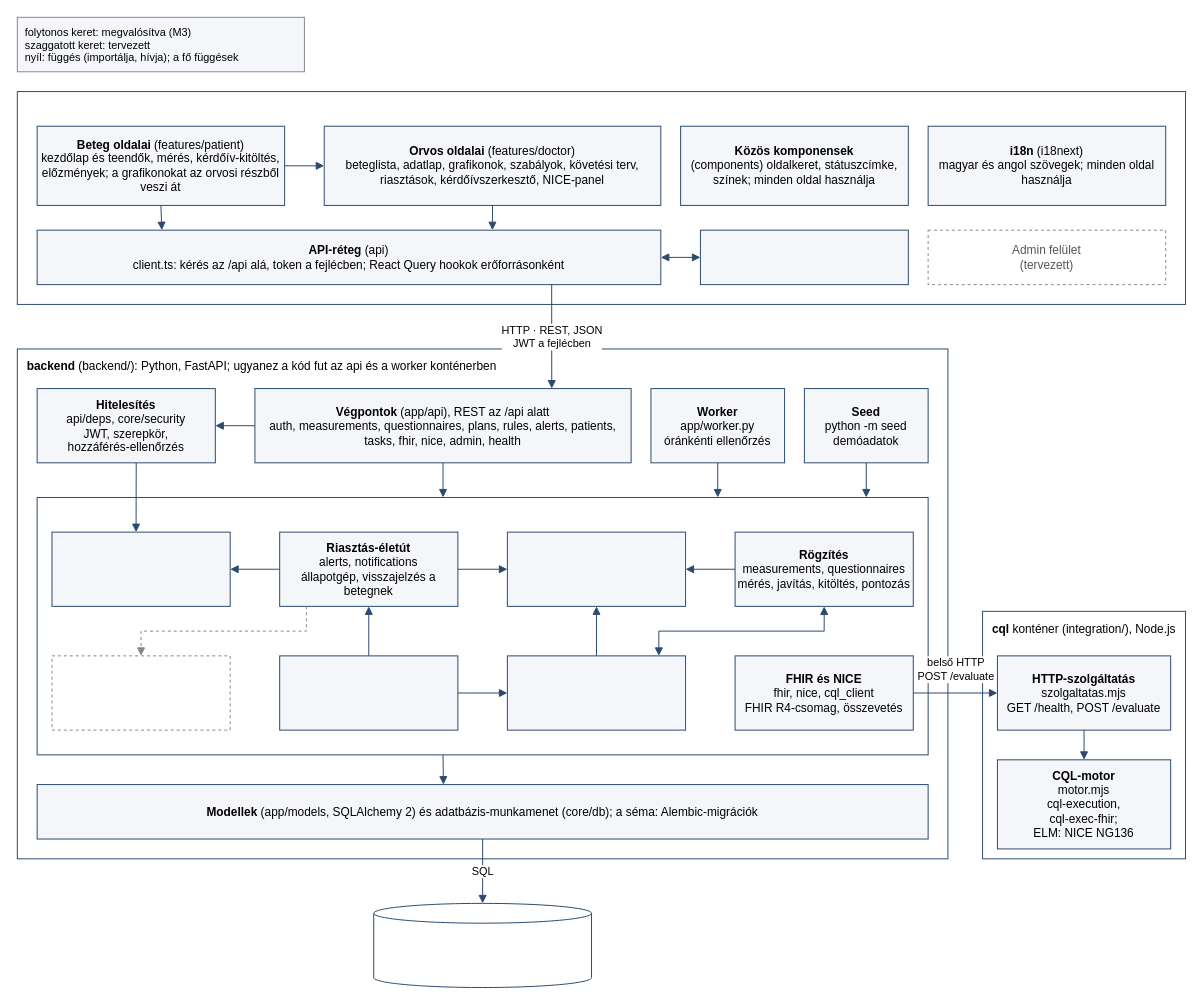
This 1203x1005 diagram has some shape labels left out. Each missing label, with the box of its shape:
Belépés, útvonalvédelem (auth) token, szerepkör szerinti útvonalak: (699, 229, 908, 285)
db konténer PostgreSQL 17: (373, 902, 592, 988)
E-mail-küldés (tervezett): (51, 655, 230, 730)
Felhasználók, hozzáférés users, access belépés, összerendelés: (51, 531, 230, 606)
frontend (frontend/src): React + TypeScript SPA, a böngészőben fut: (16, 91, 1186, 304)
Követési terv, alkalmak plans, occurrences, tasks előírások, határidők, teendők: (506, 655, 686, 730)
Státusz status beteglista, státusz és okai: (279, 655, 458, 730)
Szabálymotor rules négy típus, verziók, riasztás létrehozása: (506, 531, 686, 606)
Szolgáltatások (app/services): az üzleti logika: (36, 496, 928, 755)
